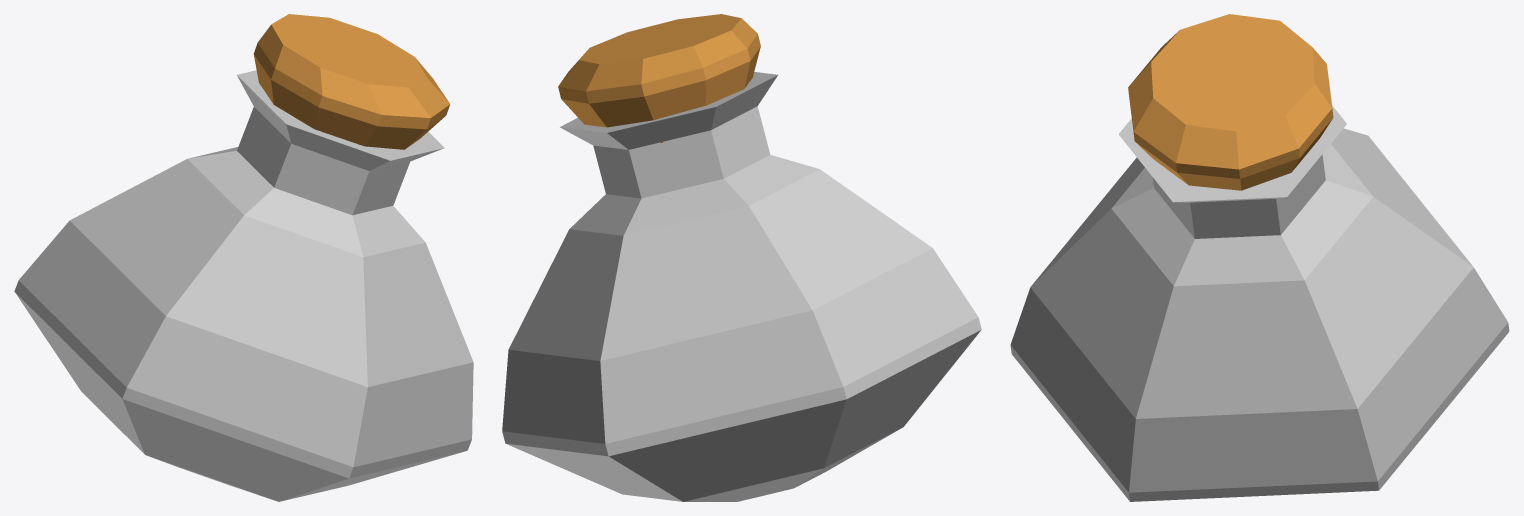
The model's file is potion_verde.fbx.
The picture shows the model from 3 angles, left to right: view 1: azimuth 30°, elevation 25°; view 2: azimuth 150°, elevation 25°; view 3: azimuth 270°, elevation 25°; orthographic projection. The views are drawn at different scales.
Parts seen in each view (by area): view 1: group_1273802232; view 2: group_1273802232; view 3: group_1273802232.
Boxes of the visible parts, x1,y1,x2,y2 form: group_1273802232: (14,14,473,501); group_1273802232: (502,14,981,501); group_1273802232: (1010,14,1509,501).
Size of the model in its own units: 16.32 by 19.06 by 18.96.
